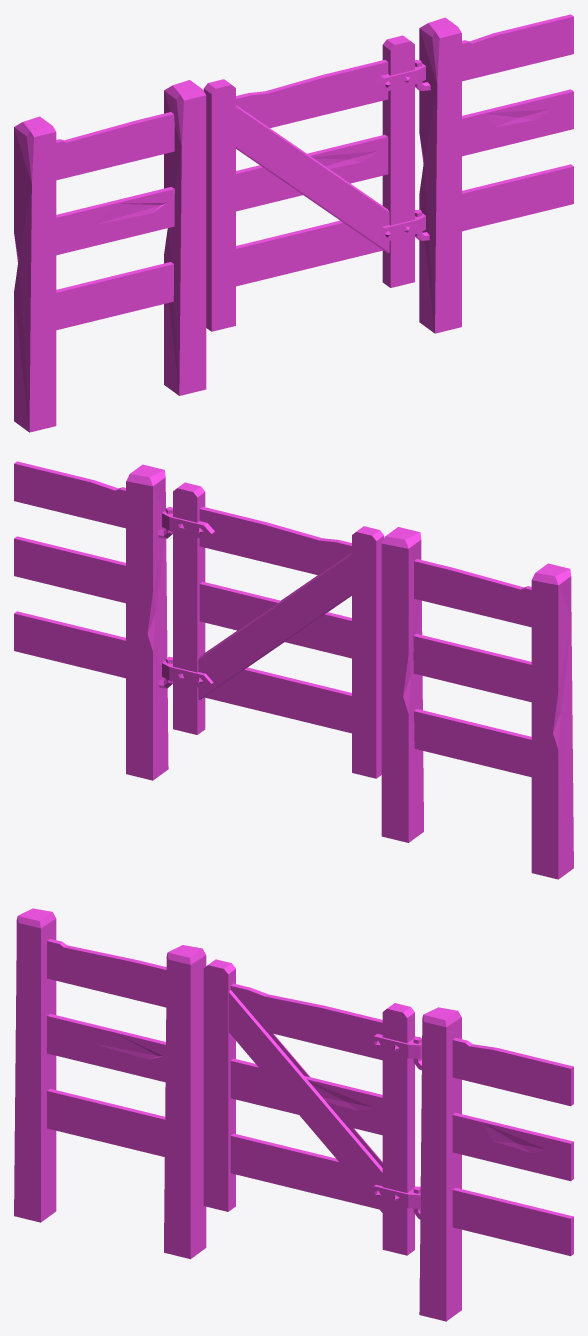
Rendered from SM_Fence_Horse_Gate.fbx.
The picture shows the model from 3 angles, top to bottom: view 1: azimuth 30°, elevation 25°; view 2: azimuth 150°, elevation 25°; view 3: azimuth 330°, elevation 25°; orthographic projection.
Visible parts, largest first — view 1: SM_Fence_Horse_Gate_Base, SM_Fence_Horse_Gate_Door; view 2: SM_Fence_Horse_Gate_Base, SM_Fence_Horse_Gate_Door; view 3: SM_Fence_Horse_Gate_Base, SM_Fence_Horse_Gate_Door.
Part boxes in pixels (<box>): SM_Fence_Horse_Gate_Base: <box>14,14,573,432</box>; SM_Fence_Horse_Gate_Door: <box>203,35,425,331</box>; SM_Fence_Horse_Gate_Base: <box>14,461,573,879</box>; SM_Fence_Horse_Gate_Door: <box>162,482,384,778</box>; SM_Fence_Horse_Gate_Base: <box>14,908,573,1321</box>; SM_Fence_Horse_Gate_Door: <box>203,959,421,1255</box>.
Bounding box in the file's own units: 3.08 × 1.6 × 0.15.
